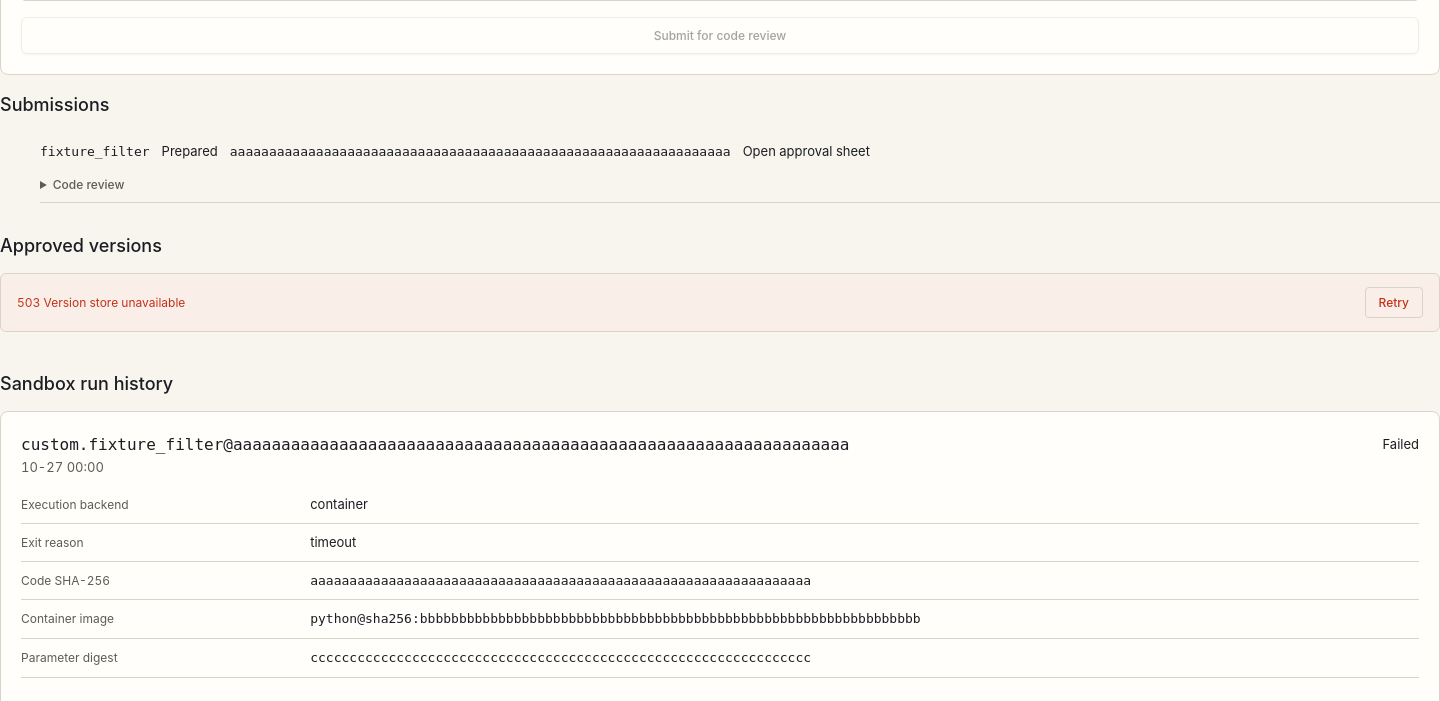
it: reports a version read failure without claiming empty versions and retries
(page scrolled)
Expected: the message shows "503 Version store unavailable", [17, 294, 185, 310]
Click the button "Retry" at (1394, 302), box [1364, 286, 1423, 318]
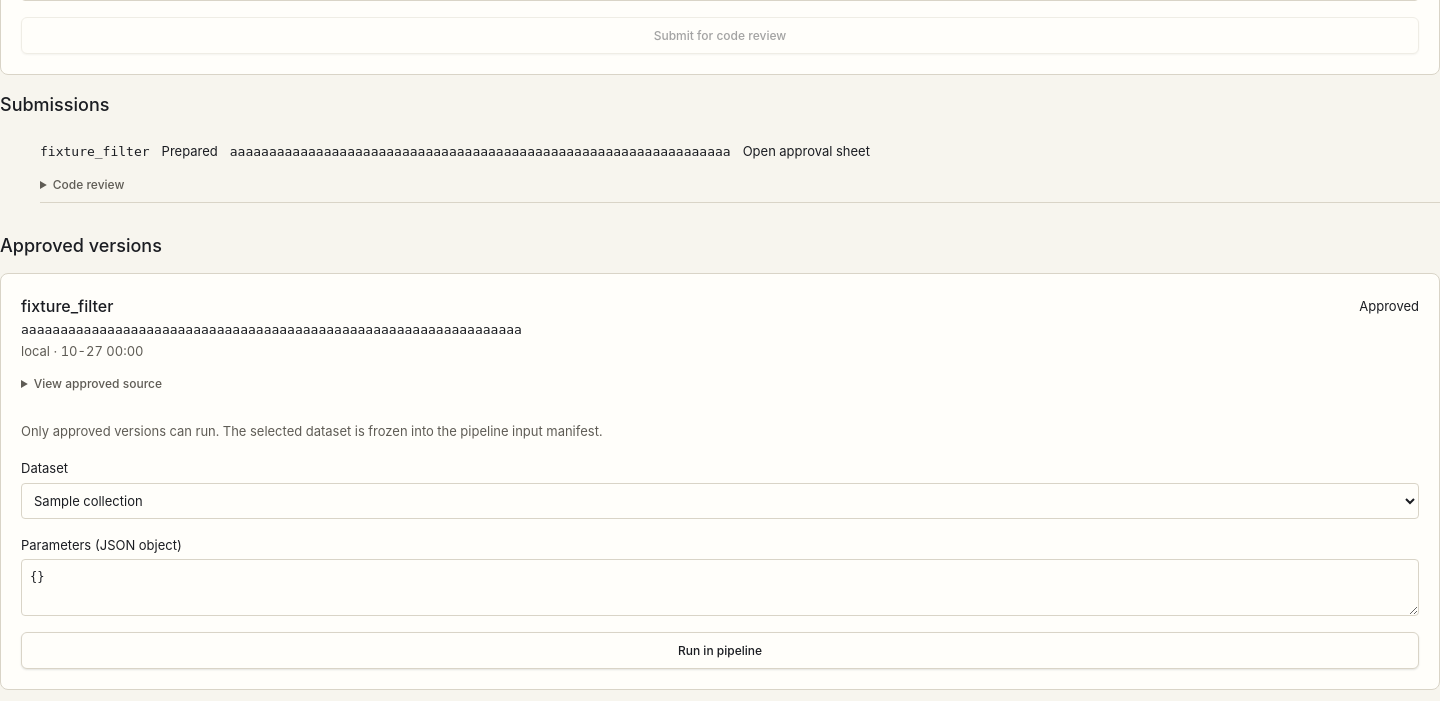
Expected: the message "503 Version store unavailable Retry" is gone
Expected: the heading "fixture_filter" is shown, [21, 294, 113, 319]
